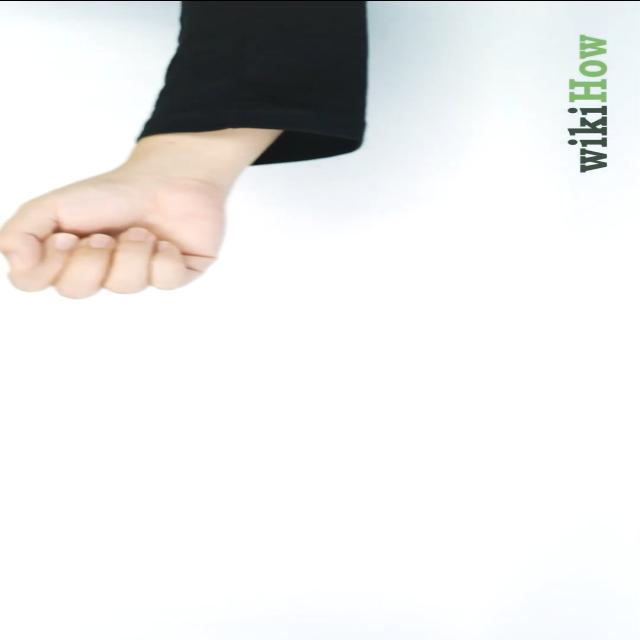Rock: (3, 170, 233, 296)
